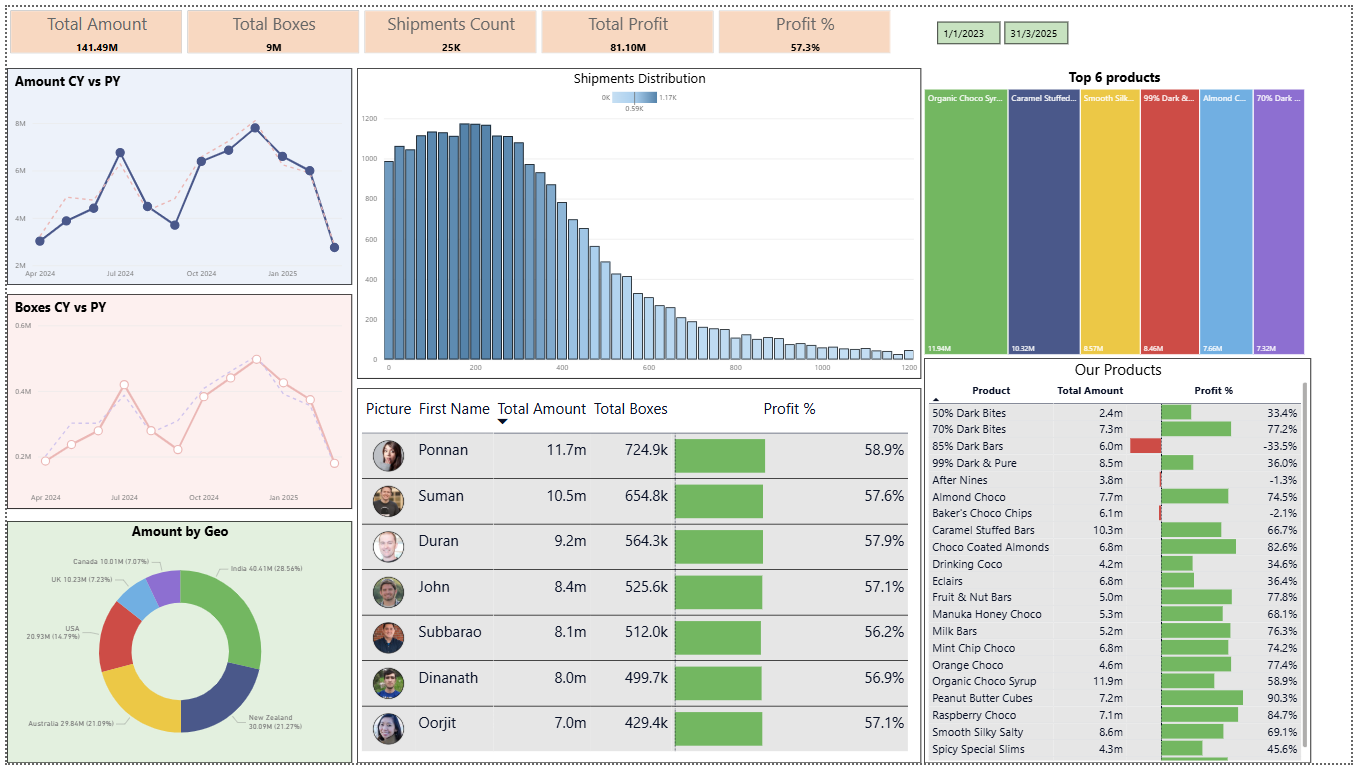

The page's visual inventory and layout, read from the dashboard file:
{"tool":"powerbi","page":{"name":"BI Report","canvas":[1920,1080],"ordinal":0},"visuals":[{"type":"lineChart","title":"Amount CY vs PY","fields":{"Y":["shipments.Total Amount","shipments.Total Amount (Last Year)"],"Category":["calendar.Start of Month"]},"box":[0,87.1,492.9,310],"z":0},{"type":"lineChart","title":"Boxes CY vs PY","fields":{"Category":["calendar.Start of Month"],"Y":["shipments.Total Boxes","shipments.Total Boxes (Last Year)"]},"box":[0,410,492.9,307.1],"z":1000},{"type":"donutChart","title":"Amount by Geo","fields":{"Category":["locations.Geo"],"Y":["shipments.Total Amount"]},"box":[0,734.3,492.9,345.7],"z":2000},{"type":"clusteredColumnChart","title":"Shipments Distribution","fields":{"Y":["shipments.Shipments Count"],"Category":["shipments.Boxes (bins)"]},"box":[500,87.1,805.7,444.3],"z":3000},{"type":"tableEx","fields":{"Values":["people.Picture","people.First Name","shipments.Total Amount","shipments.Total Boxes","shipments.Profit Percentage"]},"box":[500,544.3,805.7,535.7],"z":4000},{"type":"treemap","title":"Top 6 products","fields":{"Values":["shipments.Total Amount"],"Group":["products.Product"]},"box":[1305.7,87.1,552.9,414.3],"z":5000},{"type":"tableEx","title":"Our Products","fields":{"Values":["products.Product","shipments.Total Amount","shipments.Profit %"]},"box":[1310,501.4,552.9,578.6],"z":6000},{"type":"cardVisual","fields":{"Data":["shipments.Total Amount","shipments.Total Boxes","shipments.Shipments Count","shipments.Total Profit","shipments.Profit %"]},"box":[0,0,1270,71.4],"z":7000},{"type":"slicer","fields":{"Values":["calendar.cal_date"]},"box":[1310,10,534.3,77.1],"z":8000}]}

Visuals, with their boxes in screenshot pixels (x1, y1, x2, y2), scaled from the page's 1920x1080 canvas onto the 1360x770 screenshot:
"Amount CY vs PY" lineChart: (0, 62, 349, 283)
"Boxes CY vs PY" lineChart: (0, 292, 349, 511)
"Amount by Geo" donutChart: (0, 524, 349, 769)
"Shipments Distribution" clusteredColumnChart: (354, 62, 925, 379)
tableEx - people.Picture x people.First Name: (354, 388, 925, 769)
"Top 6 products" treemap: (925, 62, 1317, 357)
"Our Products" tableEx: (928, 357, 1320, 769)
cardVisual - shipments.Total Amount x shipments.Total Boxes: (0, 0, 900, 51)
slicer - calendar.cal_date: (928, 7, 1306, 62)
